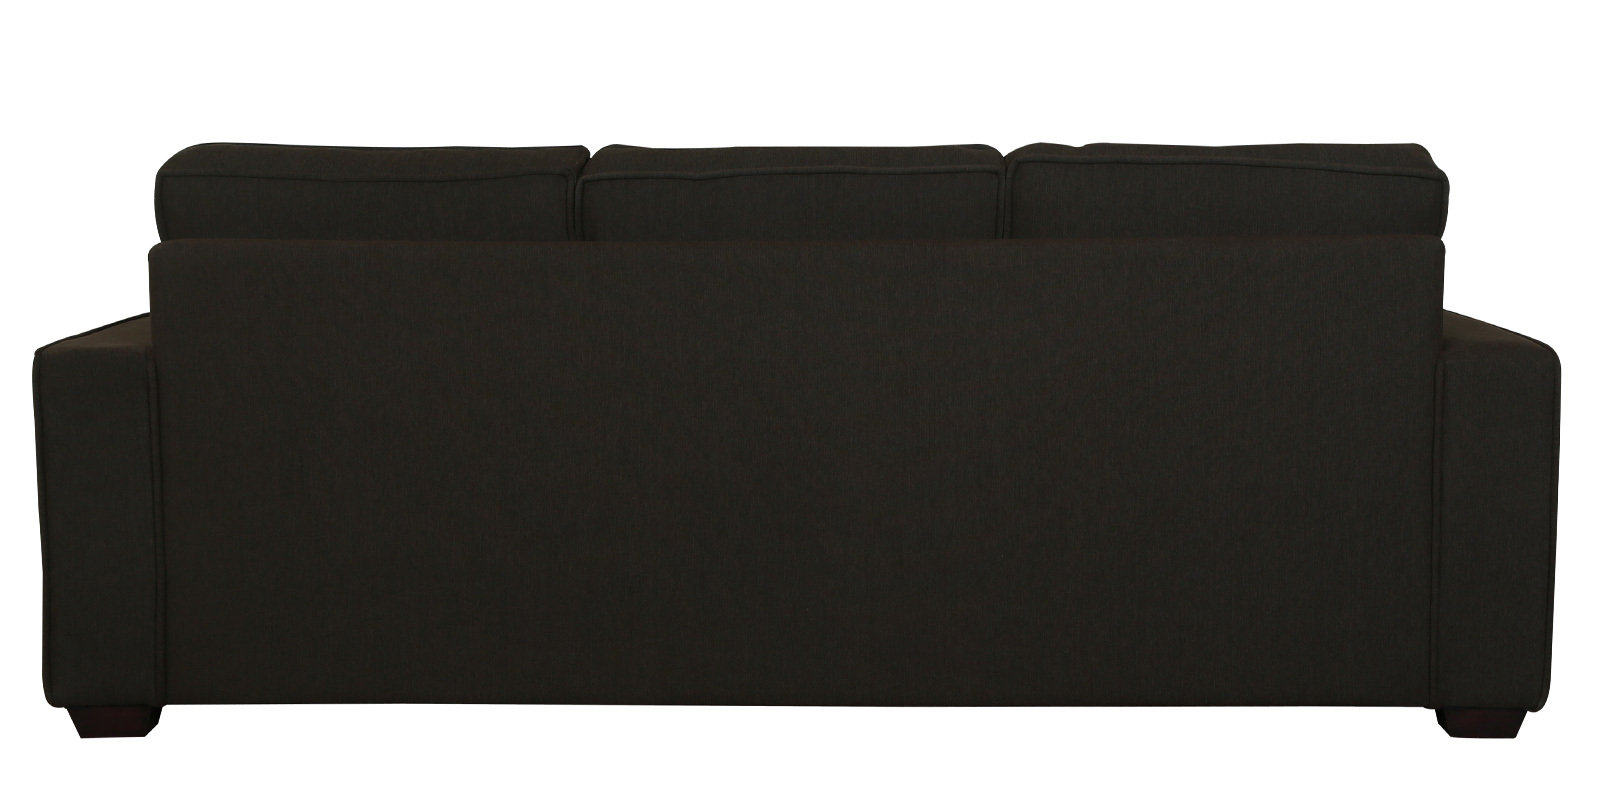Hugo Three Seater Sofa in Chestnut Brown Colour by CasaCraft: (22, 113, 1590, 781)
